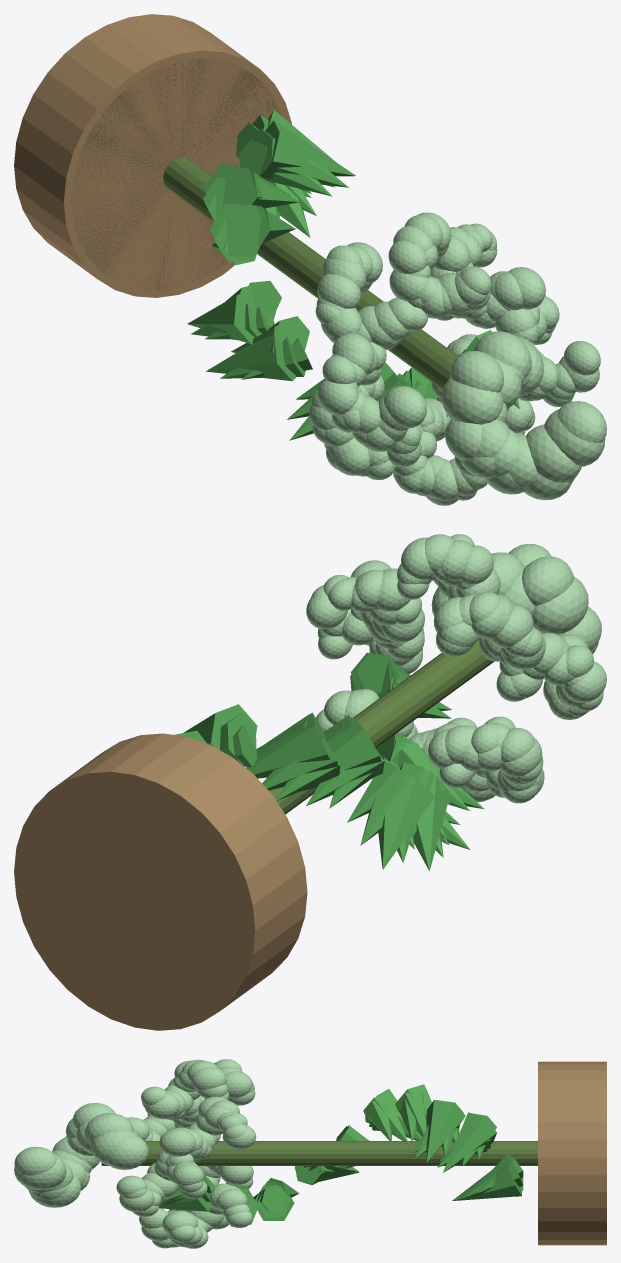
The model's file is stage_7_fioritura_piena.glb.
3 views of the same model, one above another, from view 1: azimuth 30°, elevation 25°; view 2: azimuth 150°, elevation 25°; view 3: azimuth 270°, elevation 25° (orthographic). The views are drawn at different scales.
Visible parts, largest first — view 1: world; view 2: world; view 3: world.
Boxes of the visible parts, left/top/right/bottom form: world: left=14, top=14, right=606, bottom=505; world: left=14, top=534, right=606, bottom=1030; world: left=14, top=1059, right=606, bottom=1248.
Bounding box in the file's own units: 17.61 × 17.85 × 51.63.
